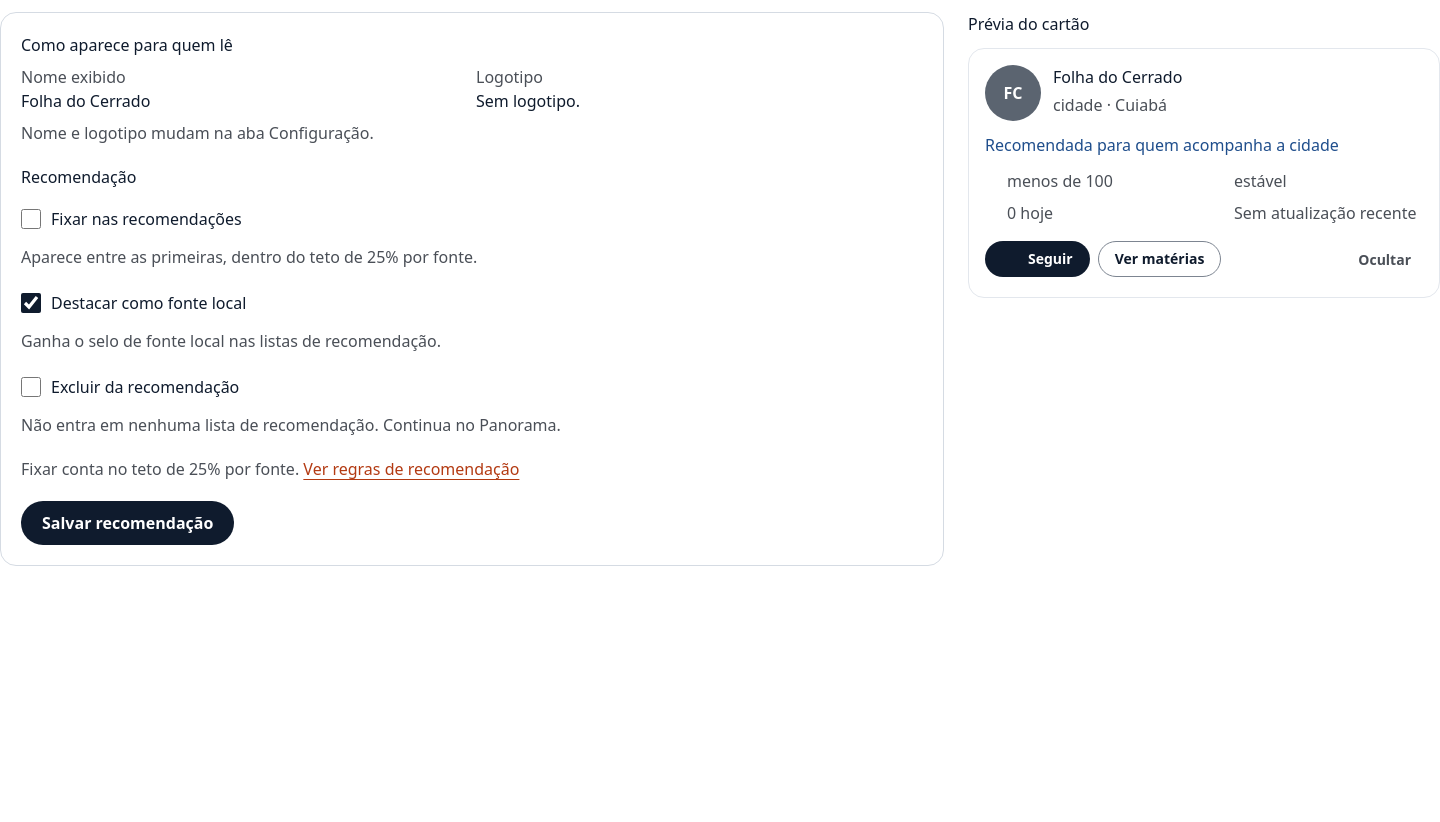
Test: SourceRecForm › envia só os três campos de recomendação com id e versão
This screenshot has width=1440, height=822.
Click the checkbox labelled "Fixar nas recomendações" at point(31, 219), box [21, 209, 41, 229]
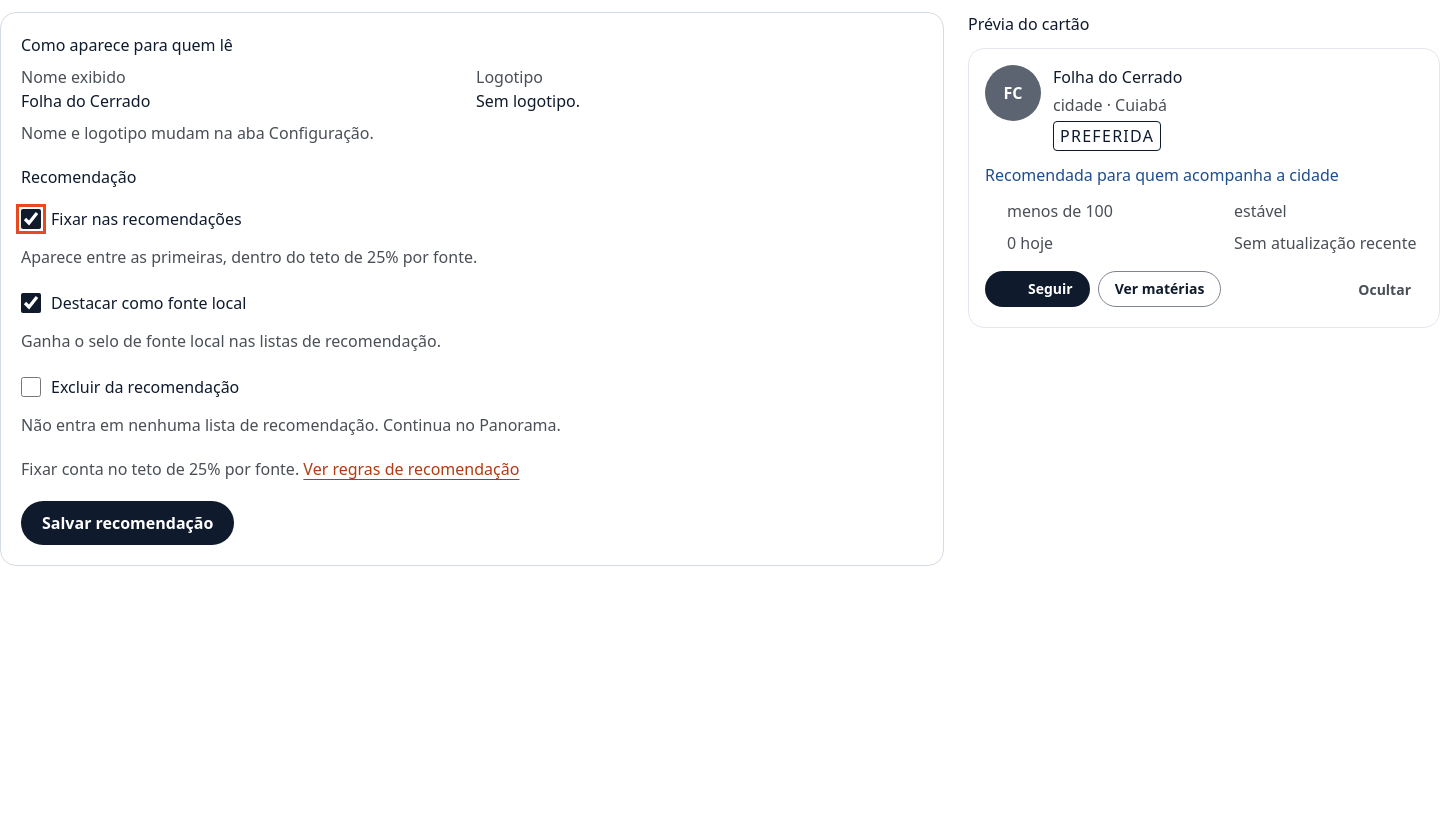
Click the button "Salvar recomendação" at point(128, 523), box [21, 501, 234, 545]
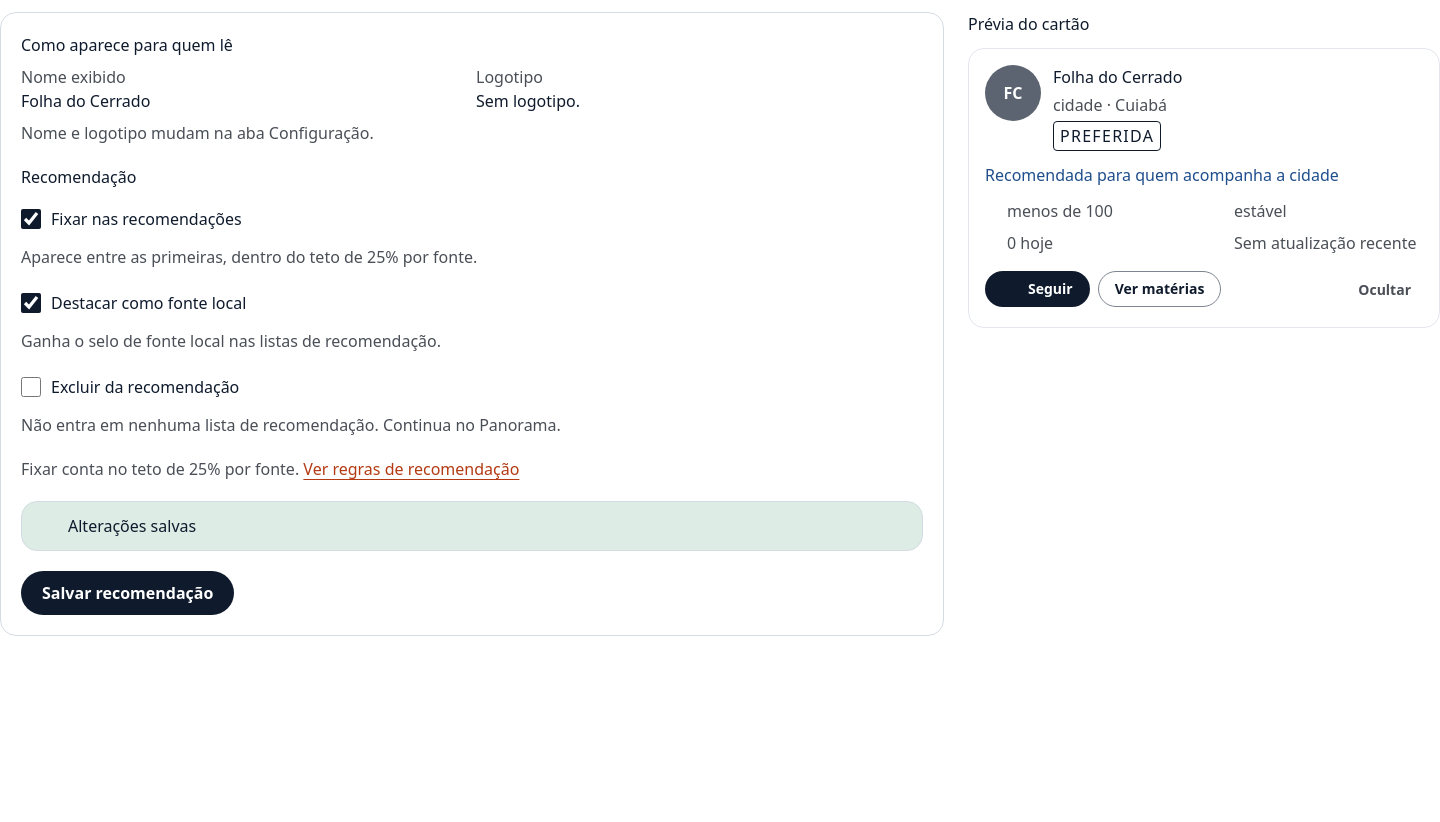
Now the message reads "Alterações salvas", box [68, 515, 196, 537]
